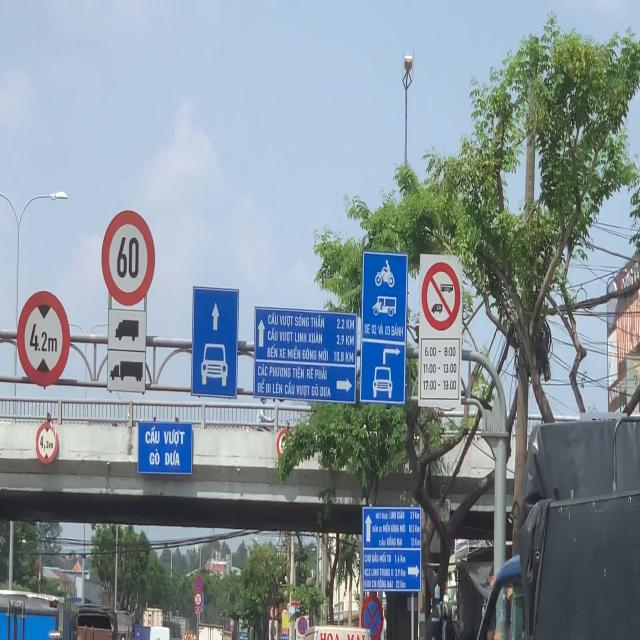Cam con lai: (421, 260, 461, 334)
Cam dung va do: (360, 592, 384, 640)
Chieu cao toi da: (18, 288, 72, 388), (35, 418, 61, 468)
Toc do toi da: (100, 205, 157, 309)
